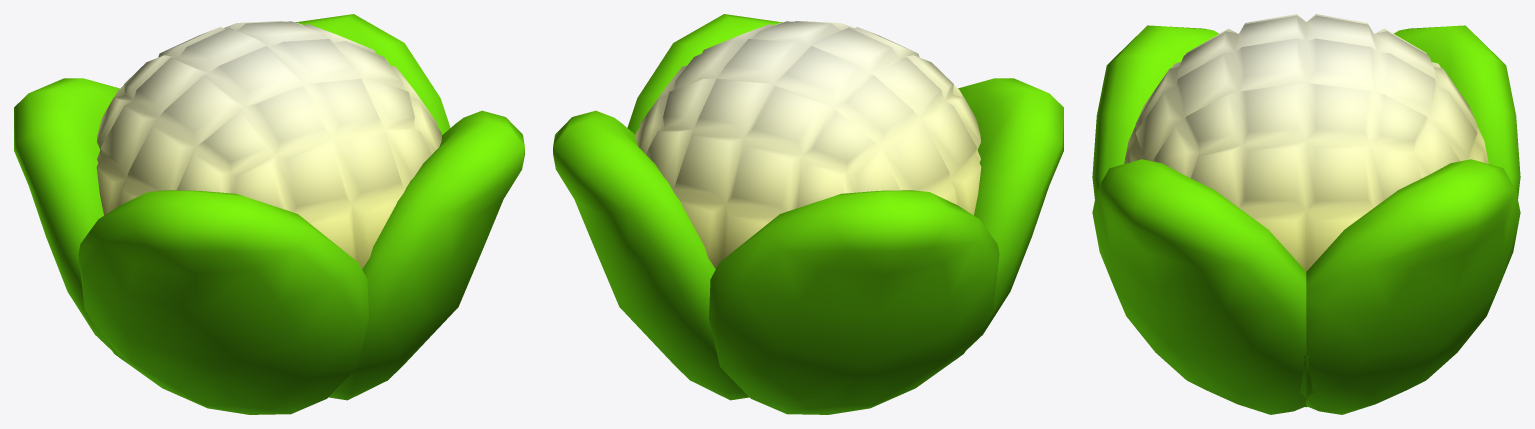
File: Farm_Crop_Cauliflower_01.glb
The picture shows the model from 3 angles, left to right: view 1: azimuth 30°, elevation 25°; view 2: azimuth 150°, elevation 25°; view 3: azimuth 270°, elevation 25°; orthographic projection.
Visible parts, largest first — view 1: Farm_Crop_Cauliflower_01; view 2: Farm_Crop_Cauliflower_01; view 3: Farm_Crop_Cauliflower_01.
Part boxes in pixels (<box>): Farm_Crop_Cauliflower_01: <box>14,14,524,414</box>; Farm_Crop_Cauliflower_01: <box>553,14,1063,414</box>; Farm_Crop_Cauliflower_01: <box>1092,14,1520,414</box>.
Bounding box in the file's own units: 0.6707 × 0.5637 × 0.6119.
1 material, 1 textured.
